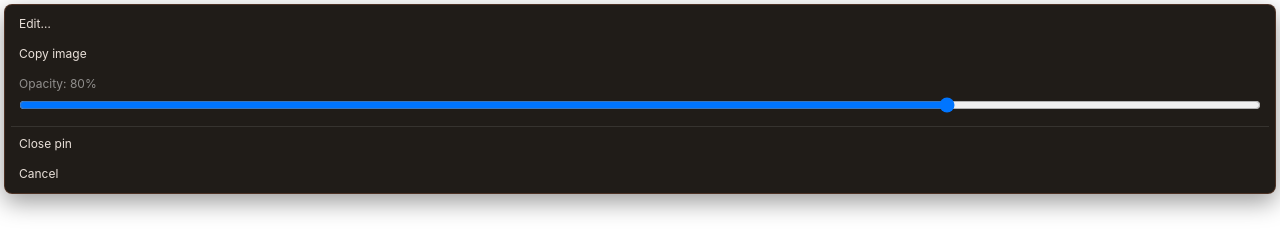
it: PinContextMenuView › opacity slider updates and sends set_pin_opacity
Set the slider with test id "pin-menu-opacity" to "0.55": (563, 105) [19,97,1261,113]
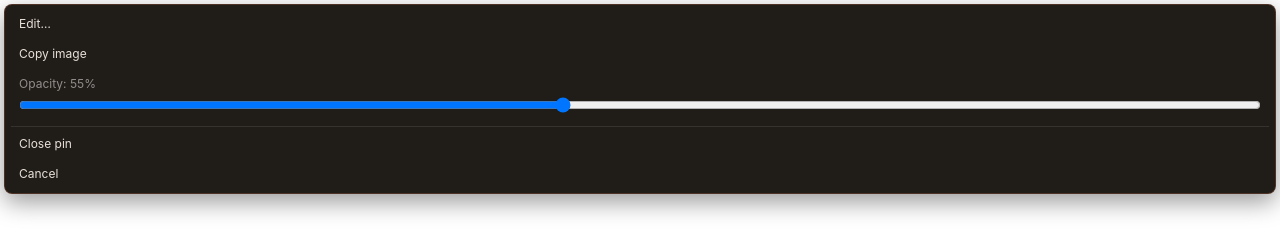
expect the text "Opacity: 55%" is shown: met, box [19,76,96,91]
